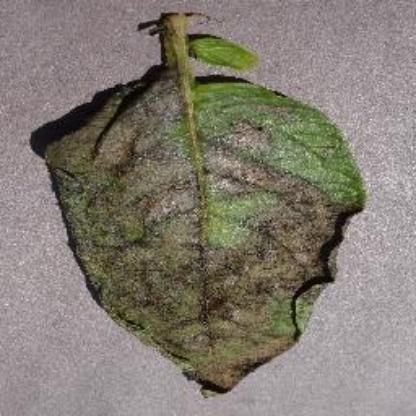Late-Blight: (38, 30, 394, 396)
